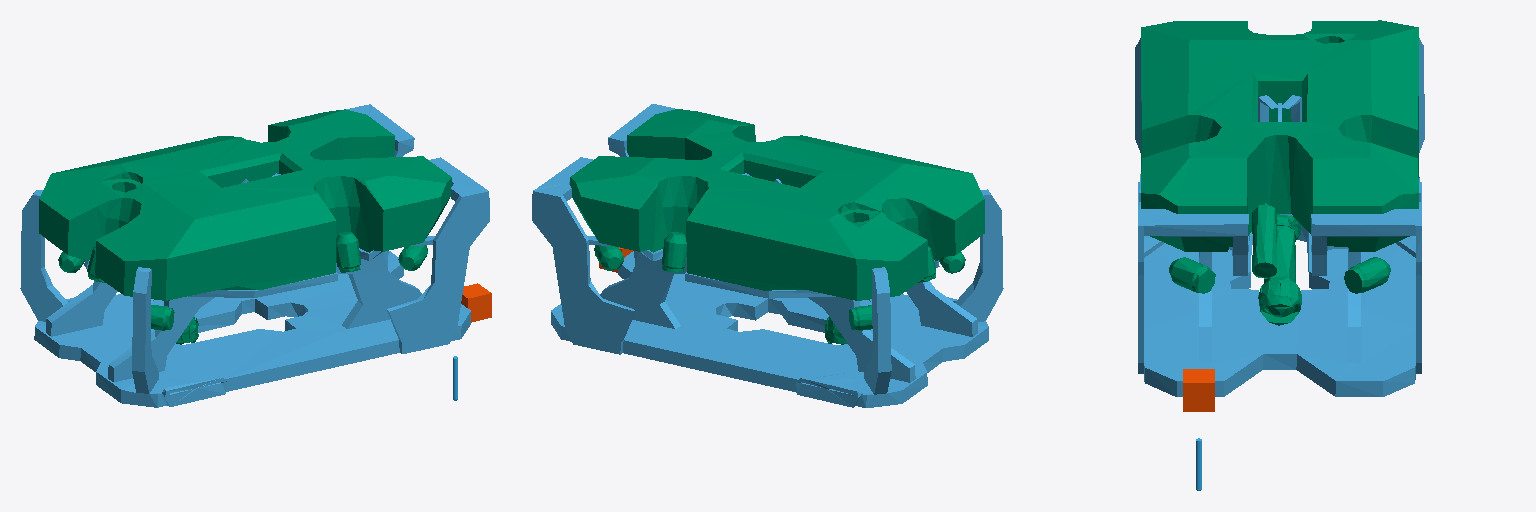
robot.urdf — bluevolta_bravo:
<?xml version="1.0" encoding="utf-8"?>
<robot name="bluevolta_bravo">
<material name="green2">
        <color rgba="0.235 0.702 0.443 1"/>
</material>

<material name="blue">
        <color rgba="0.263 0.733 0.984 1"/>
</material>

<material name="trans_black">
        <color rgba="0.8 0.8 0.8 1"/>
</material>

<material name="black2">
        <color rgba="0.8 0.8 0.8 1"/>
</material>

<material name="orange">
        <color rgba="1 0.369 0.047 1"/>
</material>

<material name="green">
        <color rgba="0 1 0 0.5"/>
</material>

<material name="bravo_black">
        <color rgba="0.3 0.3 0.3 1"/>
</material>

<material name="bravo_jaws_black">
        <color rgba="0.3 0.3 0.3 1"/>
</material>

           <link name="world"/>   
            
            <link name="mobile_base">
                <visual>
                    <geometry>
                        <mesh filename="package://uvm_description/meshes/bluevolta/bluevolta_base.obj" scale="1 1 1"/>
                    </geometry>
                </visual>
            </link>
            
                <joint name="link_rov1" type="fixed">
                    <origin xyz="0 0 0" rpy="0 0 0"/>
                    <parent link="mobile_base"/>
                    <child link="mobile_base2"/>
                </joint>
            
           <link name="mobile_base2">
                <visual>
                    <geometry>
                        <mesh filename="package://uvm_description/meshes/bluevolta/bluevolta.obj" scale="1 1 1"/>
                    </geometry>
                </visual>
            </link>
            
            <link name="box_base_bravo">
                <visual>
                    <geometry>
                        <box size="0.1 0.1 0.1"/>
                    </geometry>
                    <material name="orange"/>
                </visual>
            </link>

                <joint name="box_base_bravo_joint" type="fixed">
                    <origin xyz="-0.25 0.835 0.17" rpy="0 0 0"/>
                    <parent link="mobile_base"/>
                    <child link="box_base_bravo"/>
                </joint>
		
                <joint name="BlueVoltaToRB7" type="fixed">
                    <origin rpy="3.14 0.0 1.570796327" xyz="0 -0.05 -0.05"/>
                    <parent link="box_base_bravo"/>
                    <child link="bravo_base_link"/>
                </joint>

            <link name="bravo_base_link"/>

                <joint name="Yaw" type="revolute">
                    <parent link="world"/>
                    <child link="mobile_base"/>
                    <origin rpy="0 3.141592654 -1.570796327" xyz="0 0 0"/>
                    <axis xyz="0 0 1"/>
                    <limit effort="10.0" lower="-1000.0" upper="1000" velocity="5"/>
                </joint>

            <link name="link1">
                <visual>
                    <geometry>
                        <mesh filename="package://uvm_description/meshes/RS2-266.stl"/>
                    </geometry>
                    <material name="blue"/>
                </visual>
            </link>

                <joint name="base_fixed" type="fixed">
                    <parent link="bravo_base_link"/>
                    <child link="link1"/>
                    <origin rpy="0 0 0"/>
                </joint>

            <link name="link2">
                <visual>
                    <geometry>
                        <mesh filename="package://uvm_description/meshes/RS2-217.stl"/>
                    </geometry>
                    <material name="green2"/>
                </visual>
            </link>

                <joint name="joint1" type="revolute">
                    <parent link="link1"/>
                    <child link="link2"/>
                    <origin rpy="0 0 0" xyz="0.0665 0 0.078"/>
                    <axis xyz="0 0 -1"/>
                    <limit effort="9.0" lower="-6.3" upper="6.3" velocity="0.5"/>
                </joint>

            <link name="link3">
                <visual>
                    <geometry>
                        <mesh filename="package://uvm_description/meshes/RS2-250-212-214.stl"/>
                    </geometry>
                    <material name="blue"/>
                </visual>
            </link>

                <joint name="joint2" type="revolute">
                    <parent link="link2"/>
                    <child link="link3"/>
                    <origin rpy="0 0 0" xyz="-0.046 0 0.0674"/>
                    <axis xyz="0 1 0"/>
                    <limit effort="9.0" lower="-3.5" upper="3.5" velocity="0.5"/>
                </joint>

            <link name="link4">
                <visual>
                    <geometry>
                        <mesh filename="package://uvm_description/meshes/RS2-268.stl"/>
                    </geometry>
                    <material name="green2"/>
                </visual>
            </link>

                <joint name="joint3" type="revolute">
                    <parent link="link3"/>
                    <child link="link4"/>
                    <origin rpy="0 0 0" xyz="-0.0052 0 -0.29055"/>
                    <axis xyz="0 1 0"/>
                    <limit effort="9.0" lower="-3.5" upper="3.5" velocity="0.5"/>
                </joint>

            <link name="link5">
                <visual>
                    <geometry>
                        <mesh filename="package://uvm_description/meshes/RS2-214.stl"/>
                    </geometry>
                    <material name="blue"/>
                </visual>
            </link>

                <joint name="joint4" type="revolute">
                    <parent link="link4"/>
                    <child link="link5"/>
                    <origin rpy="0 0 0" xyz="0.0408 0 0.09695"/>
                    <axis xyz="0 0 -1"/>
                    <limit effort="9.0" lower="-6.3" upper="6.3" velocity="0.5"/>
                </joint>

            <link name="link6">
                <visual>
                    <geometry>
                        <mesh filename="package://uvm_description/meshes/RS2-161.stl"/>
                    </geometry>
                    <material name="green2"/>
                </visual>
            </link>

                <joint name="joint5" type="revolute">
                    <parent link="link5"/>
                    <child link="link6"/>
                    <origin rpy="0 0 0" xyz="-0.0408 0 0.063"/>
                    <axis xyz="0 1 0"/>
                    <limit effort="9.0" lower="-3.5" upper="3.5" velocity="0.5"/>
                </joint>

            <link name="link7">
                <visual>
                    <geometry>
                        <mesh filename="package://uvm_description/meshes/RS2-180.stl"/>
                    </geometry>
                    <material name="blue"/>
                </visual>
            </link>

            <link name="force_torque_sensor">
                <visual>
                    <geometry>
                        <cylinder length="0.06" radius="0.04"/>
                    </geometry>
                    <material name="orange"/>
                </visual>
            </link>

                <joint name="FT_fixed_1" type="fixed">
                    <origin rpy="0 0 1.57" xyz=" 0 0 -0.03"/>
                    <parent link="link7"/>
                    <child link="force_torque_sensor"/>
                </joint>

                <joint name="joint6" type="revolute">
                    <parent link="link6"/>
                    <child link="link7"/>
                    <origin rpy="0 3.14159 0" xyz="-0.0408 0 -0.14863"/>
                    <axis xyz="0 0 -1"/>
                    <limit effort="9.0" lower="0.0" upper="6.3" velocity="0.5"/>
                </joint>

                <joint name="bravo_jaws_joint" type="fixed">
                    <origin rpy="0 0 0" xyz=" 0 0 0.124"/>
                    <parent link="link7"/>
                    <child link="bravo_jaws_base_link"/>
                </joint>

            <link name="bravo_jaws_base_link"/>           

                    <!-- contact_point_joint -->
                <joint name="contact_point_joint" type="fixed">
                    <!-- 0.16/0.185 for plastic/metal tool with boardmarker-->
                    <!-- 0.15/0.21 for blue/white polymer tool with sponge -->
                    <origin rpy="0 0 0" xyz="0 0 0.315"/>
                    <parent link="force_torque_sensor"/>
                    <child link="contact_point"/>
                </joint>

            <!-- contact_point -->
            <link name="contact_point">
                <visual>
                <origin rpy="0 0 0" xyz="0 0 0"/>
                <geometry>
                    <sphere radius="0.01"/>
                </geometry>
                <material name="blue"/>
                </visual>
            </link>

            <link name="end_effector">
                <visual>
                <origin rpy="0 0 0" xyz="0 0 0"/>
                <geometry>
                    <cylinder radius="0.01" length="0.165"/>
                </geometry>
                <material name="blue"/>
                </visual>
            </link>

                <joint name="tool" type="fixed">
                    <parent link="contact_point"/>
                    <child link="end_effector"/>
                    <origin rpy="0 0 0" xyz="0 0 -0.083"/>
                </joint>
</robot>

--- Render facts (derived) ---
3 views of the same robot in one strip: view 1: azimuth 30°, elevation 25°; view 2: azimuth 150°, elevation 25°; view 3: azimuth 270°, elevation 25° (orthographic).
Robot: bluevolta_bravo — 16 links, 15 joints (7 revolute, 8 fixed); root link world; default pose: every joint at zero.
Visible links, largest first — view 1: mobile_base2, mobile_base, box_base_bravo; view 2: mobile_base2, mobile_base; view 3: mobile_base2, mobile_base, box_base_bravo.
Link boxes in pixels (box(x1,y1,x2,y2)): mobile_base2: box(39, 109, 451, 344); mobile_base: box(20, 104, 489, 407); box_base_bravo: box(461, 283, 491, 322); mobile_base2: box(570, 109, 984, 344); mobile_base: box(532, 104, 1003, 407); mobile_base2: box(1141, 20, 1418, 325); mobile_base: box(1135, 38, 1424, 396); box_base_bravo: box(1183, 369, 1214, 411).
Size in the robot's own frame: 1.6 by 0.8943 by 1.01 metres.
Meshes: 9 distinct files referenced, 2 mesh visuals loaded (2 OBJ); not drawn: 7 (reference not matched to a file when rendering).